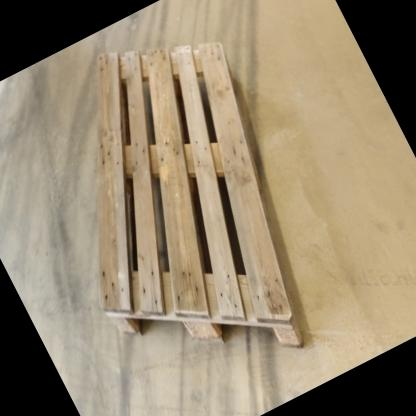BoxFace: (92, 35, 313, 360)
